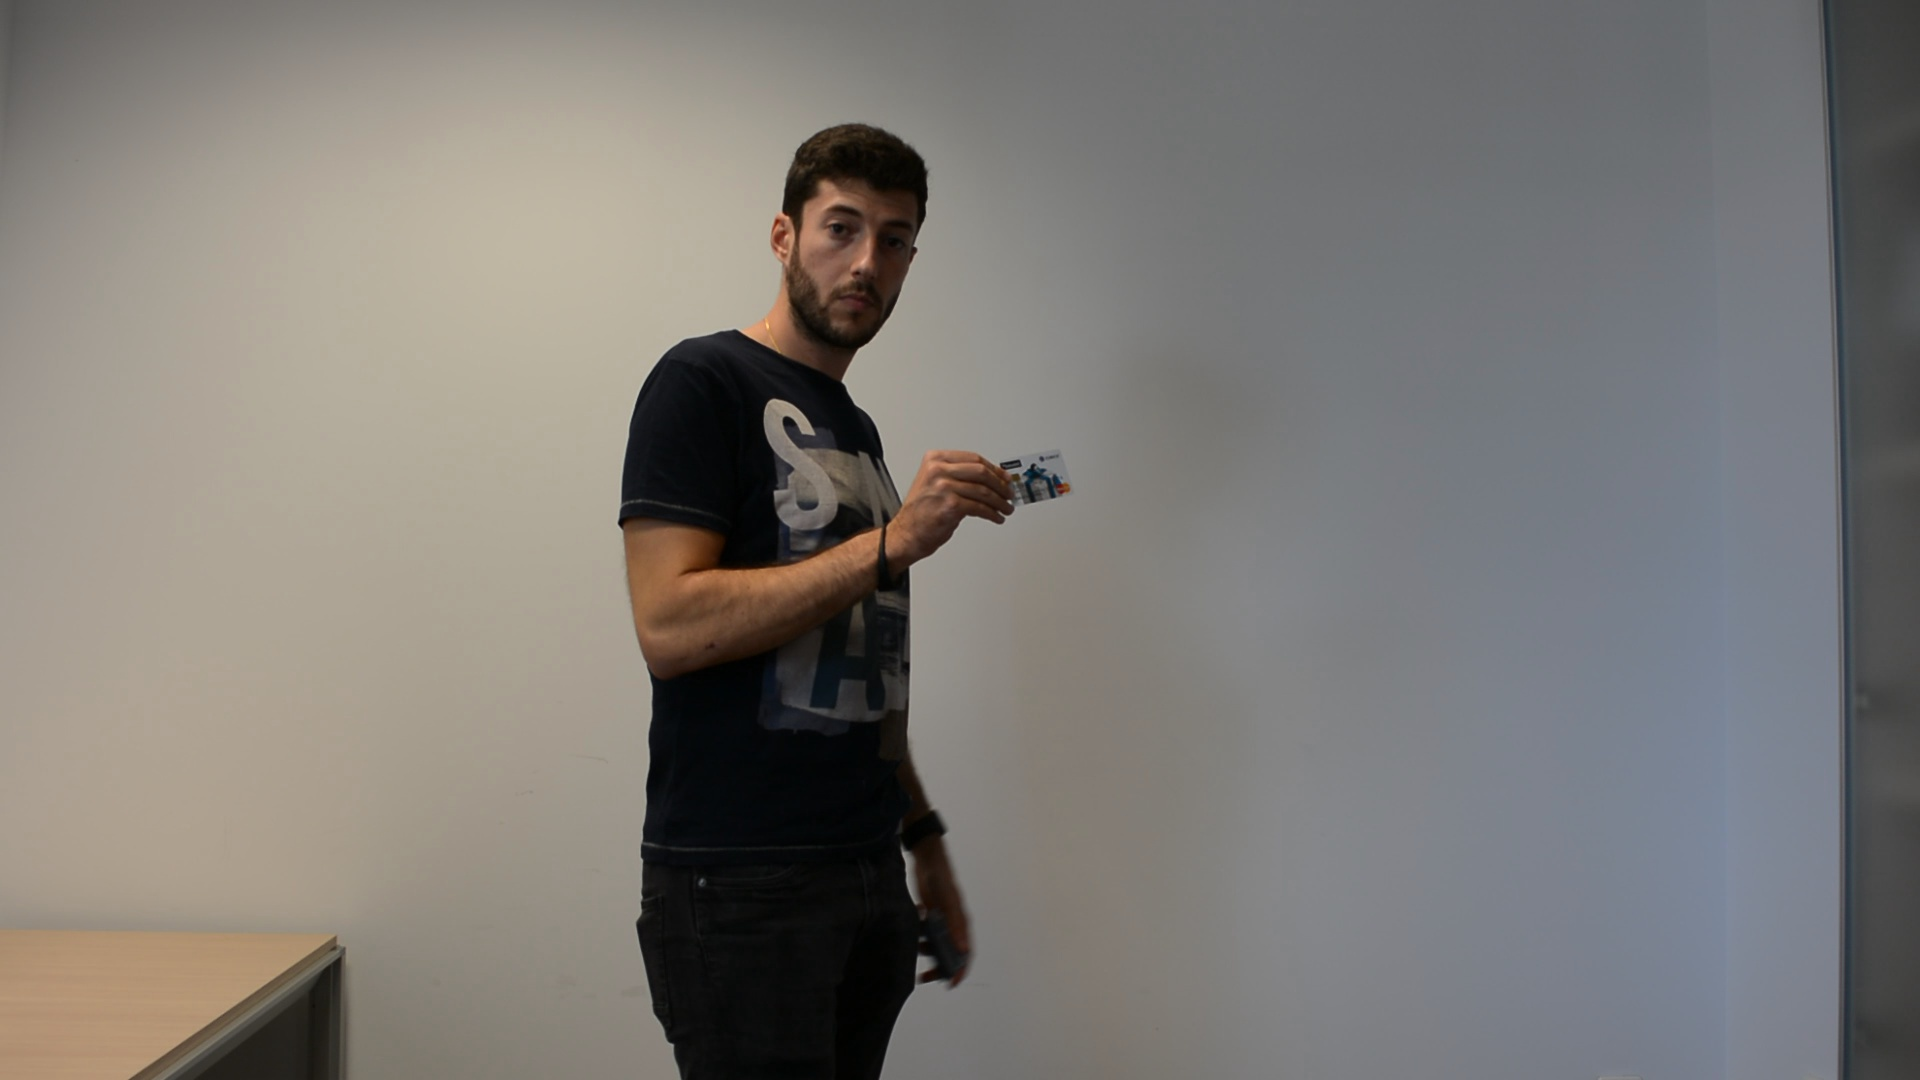tarjeta: (989, 447, 1080, 512)
